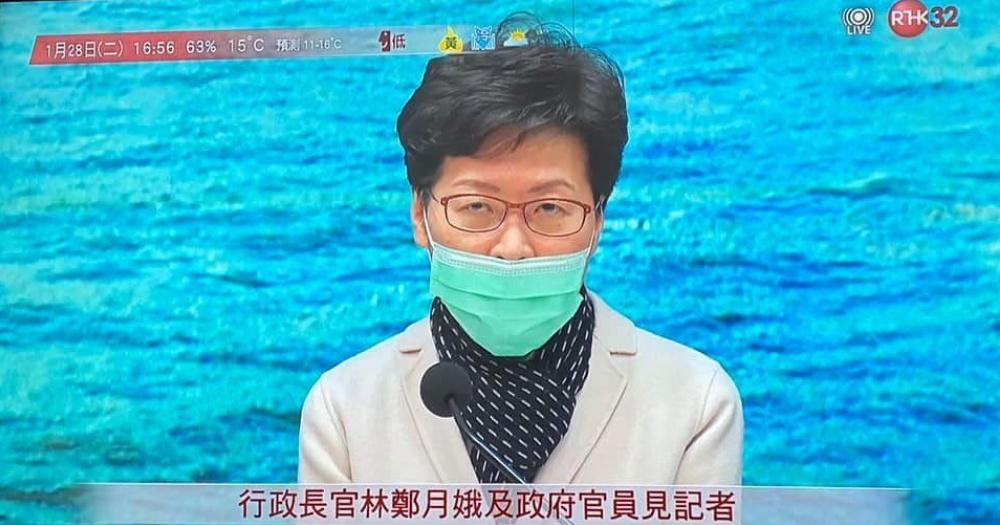poor: (426, 171, 597, 358)
